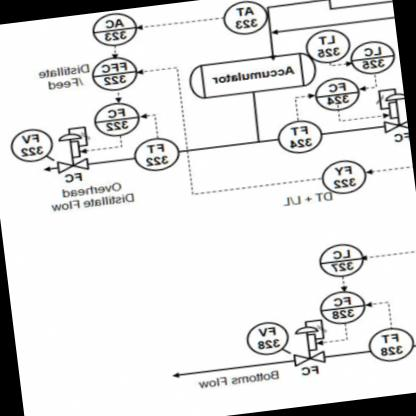LMI: (243, 314, 291, 358), (366, 324, 415, 367), (275, 117, 325, 158), (5, 123, 54, 164), (302, 25, 352, 65), (132, 134, 182, 174), (318, 156, 368, 196), (221, 0, 270, 38)
